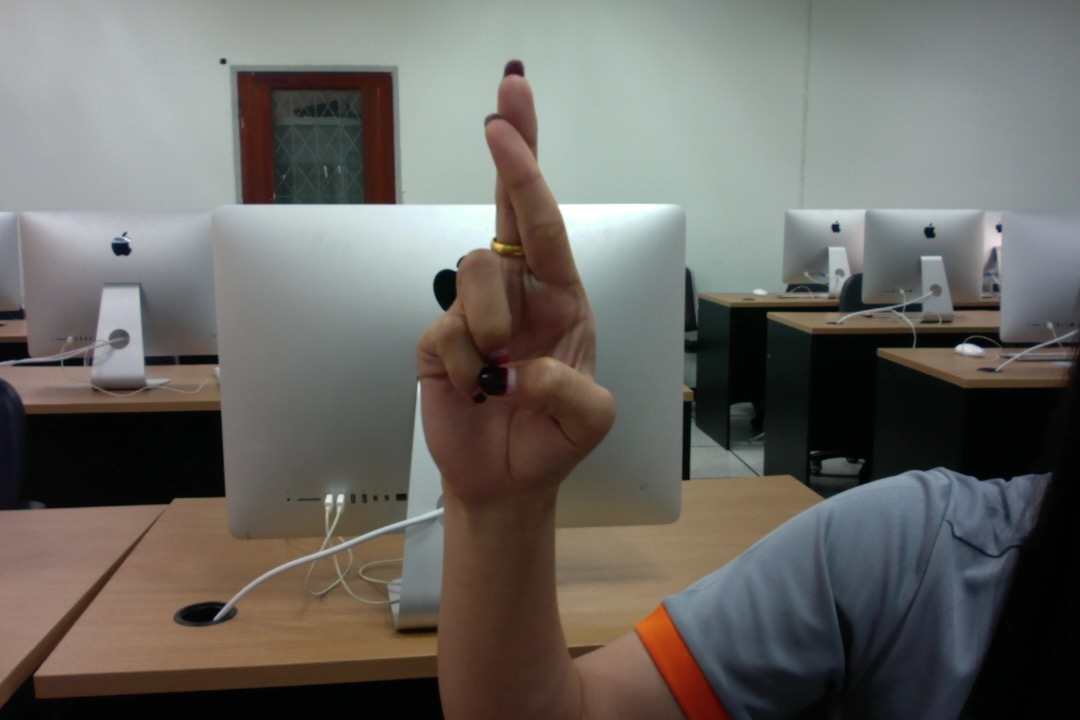rao: (404, 52, 620, 512)
